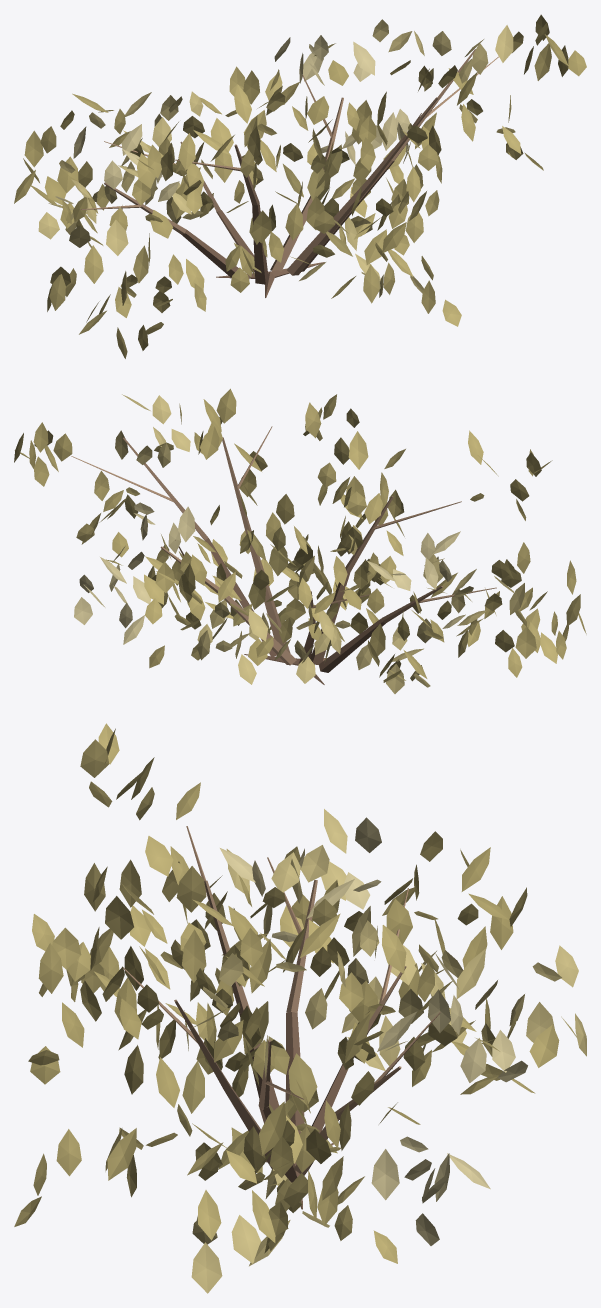
File: bush_3d_02_yellow.glb
3 renders of one model, top to bottom at view 1: azimuth 30°, elevation 25°; view 2: azimuth 150°, elevation 25°; view 3: azimuth 270°, elevation 25°, orthographic. The views are drawn at different scales.
Parts seen in each view (by area): view 1: bush_3d_02_yellow_foliage, bush_3d_02_yellow_wood; view 2: bush_3d_02_yellow_foliage, bush_3d_02_yellow_wood; view 3: bush_3d_02_yellow_foliage, bush_3d_02_yellow_wood.
Part boxes in pixels (x1,y1,x2,y2): bush_3d_02_yellow_foliage: [14, 14, 586, 358]; bush_3d_02_yellow_wood: [81, 49, 498, 297]; bush_3d_02_yellow_foliage: [14, 388, 586, 693]; bush_3d_02_yellow_wood: [71, 426, 496, 684]; bush_3d_02_yellow_foliage: [14, 723, 586, 1293]; bush_3d_02_yellow_wood: [123, 826, 440, 1209].
Bounding box in the file's own units: 3.4 × 1.45 × 2.1.
